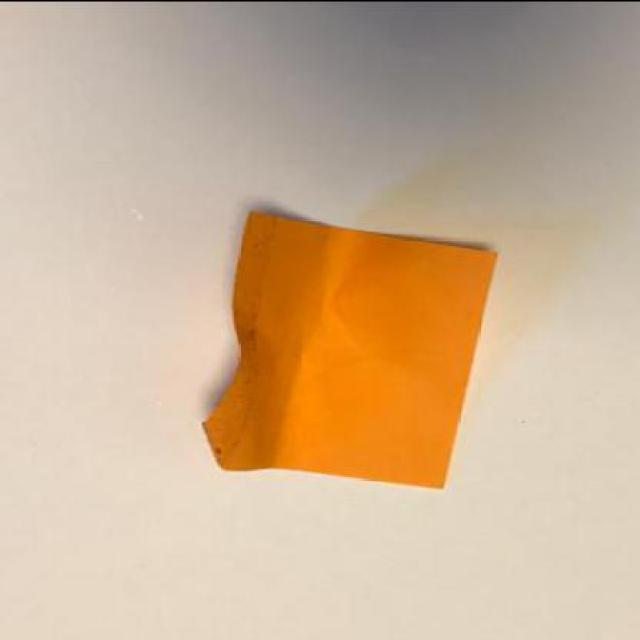PAPER: (200, 212, 497, 488)
